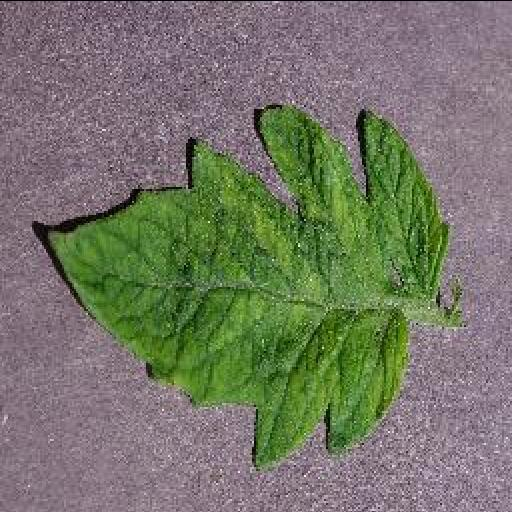disease_tomato: (42, 102, 454, 476)
